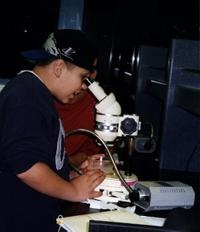person without safety: (1, 26, 103, 199)
